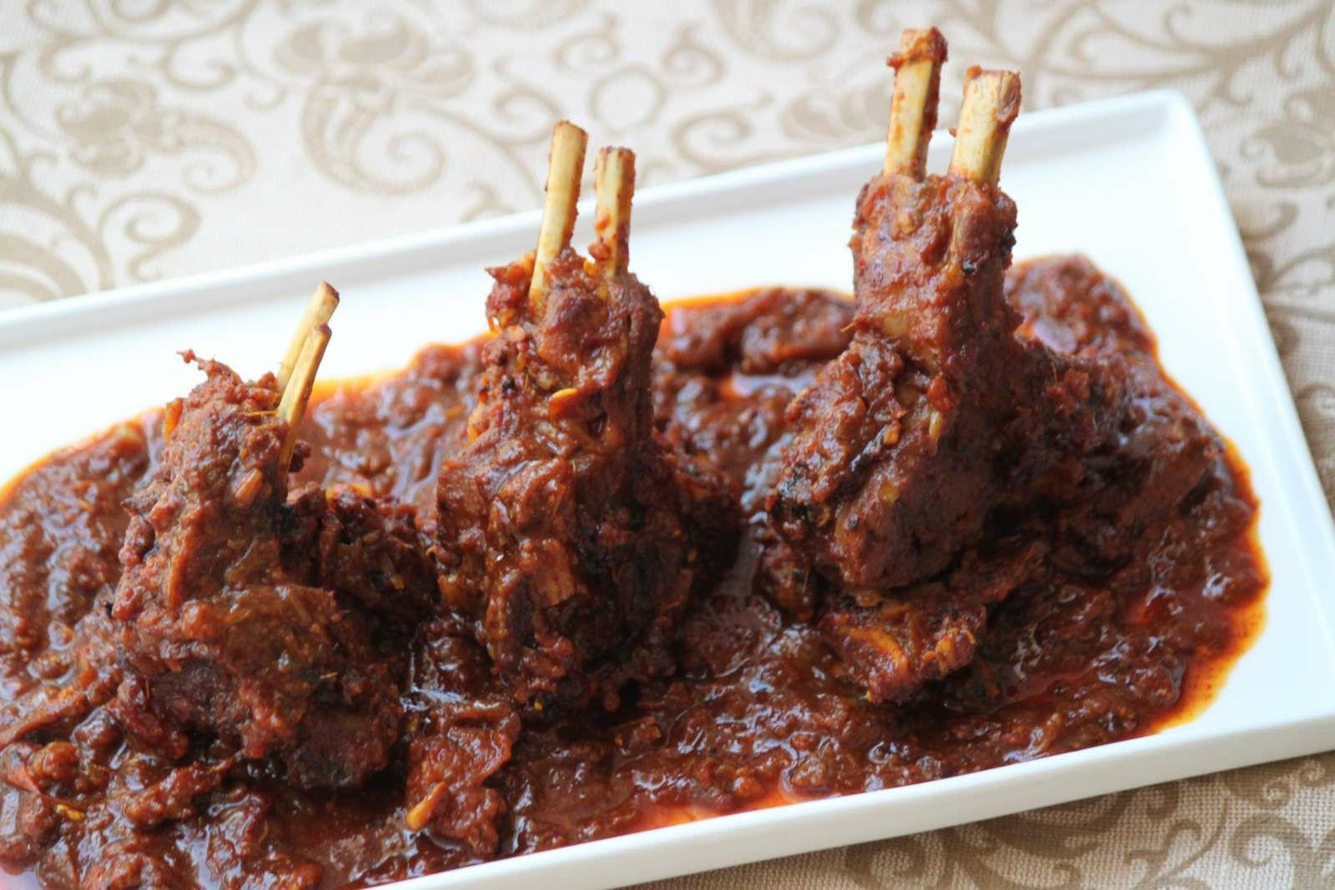MuttonCurry: (0, 25, 1273, 890)
